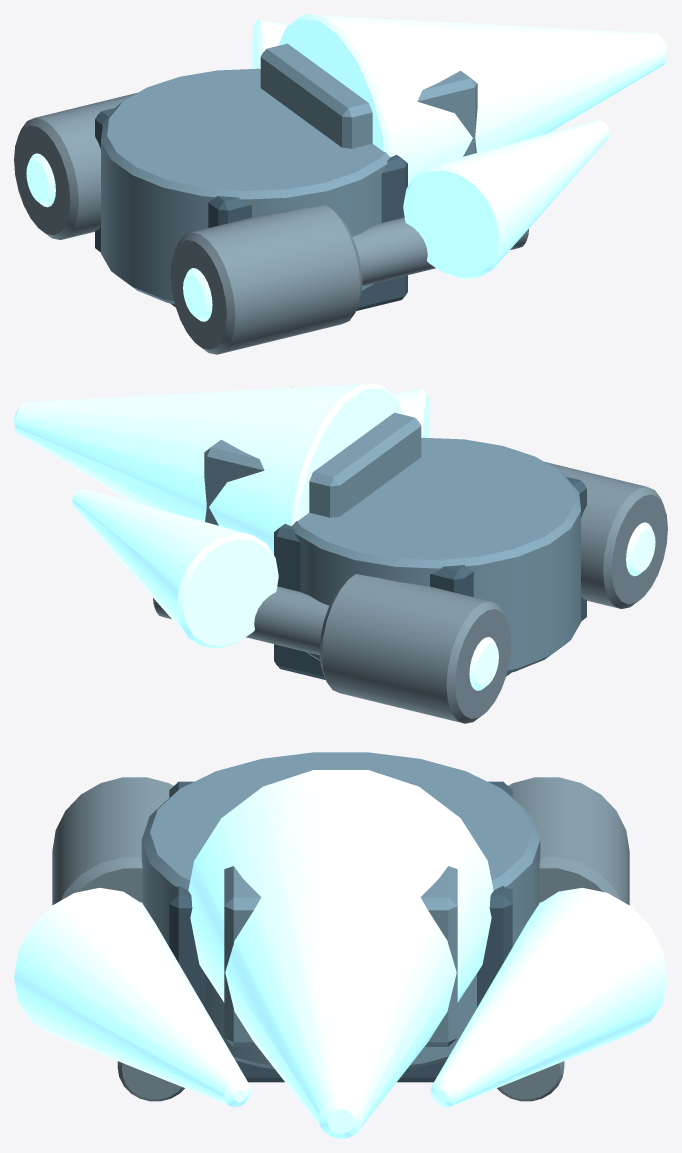
File: frost_turret_l2.glb
The picture shows the model from 3 angles, top to bottom: view 1: azimuth 30°, elevation 25°; view 2: azimuth 150°, elevation 25°; view 3: azimuth 270°, elevation 25°; orthographic projection. The views are drawn at different scales.
Parts seen in each view (by area): view 1: Cylinder, Cone, Cylinder.003, Cone.001, Cylinder.005, Cube.001, Cube, Cylinder.001, Cylinder.004, Cylinder.006, Cone.002; view 2: Cylinder, Cone, Cylinder.005, Cone.002, Cylinder.003, Cube.001, Cube, Cylinder.002, Cylinder.004, Cylinder.006, Cone.001; view 3: Cone, Cone.001, Cone.002, Cylinder, Cylinder.003, Cylinder.005, Cube, Cube.001, Cylinder.001, Cylinder.002.
Boxes of the visible parts, left/top/right/bottom form: Cylinder: left=101, top=68, right=390, bottom=304; Cone: left=278, top=14, right=667, bottom=185; Cylinder.003: left=170, top=205, right=362, bottom=354; Cone.001: left=403, top=120, right=609, bottom=279; Cylinder.005: left=14, top=92, right=137, bottom=239; Cube.001: left=260, top=18, right=477, bottom=156; Cube: left=95, top=107, right=407, bottom=310; Cylinder.001: left=353, top=217, right=528, bottom=286; Cylinder.004: left=183, top=268, right=212, bottom=321; Cylinder.006: left=26, top=153, right=55, bottom=207; Cone.002: left=252, top=19, right=289, bottom=68; Cylinder: left=291, top=437, right=580, bottom=673; Cone: left=14, top=383, right=403, bottom=554; Cylinder.005: left=319, top=574, right=511, bottom=723; Cone.002: left=72, top=489, right=278, bottom=648; Cylinder.003: left=544, top=461, right=667, bottom=608; Cube.001: left=204, top=387, right=421, bottom=525; Cube: left=274, top=476, right=586, bottom=679; Cylinder.002: left=153, top=586, right=328, bottom=655; Cylinder.004: left=626, top=522, right=655, bottom=576; Cylinder.006: left=469, top=637, right=498, bottom=690; Cone.001: left=392, top=388, right=429, bottom=437; Cone: left=188, top=770, right=493, bottom=1138; Cone.001: left=14, top=887, right=251, bottom=1107; Cone.002: left=430, top=887, right=667, bottom=1107; Cylinder: left=141, top=752, right=540, bottom=1069; Cylinder.003: left=52, top=777, right=173, bottom=905; Cylinder.005: left=508, top=777, right=629, bottom=905; Cube: left=169, top=781, right=512, bottom=1082; Cube.001: left=224, top=866, right=457, bottom=1046; Cylinder.001: left=117, top=1061, right=184, bottom=1101; Cylinder.002: left=497, top=1061, right=564, bottom=1101.
Bounding box in the file's own units: 1.21 × 0.4939 × 0.9517.
